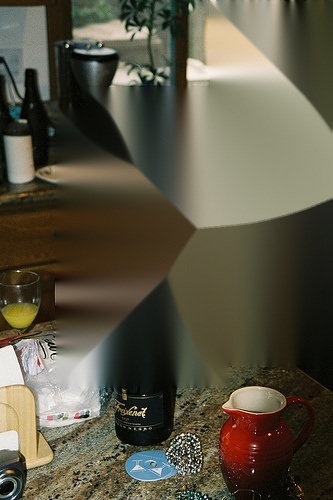bottle: (114, 245, 178, 448), (20, 68, 50, 167)
pottedplant: (119, 1, 184, 130)
